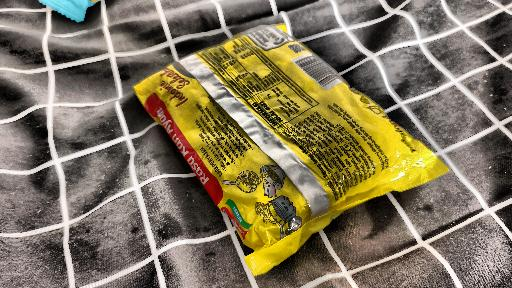indomie: (117, 0, 447, 265)
